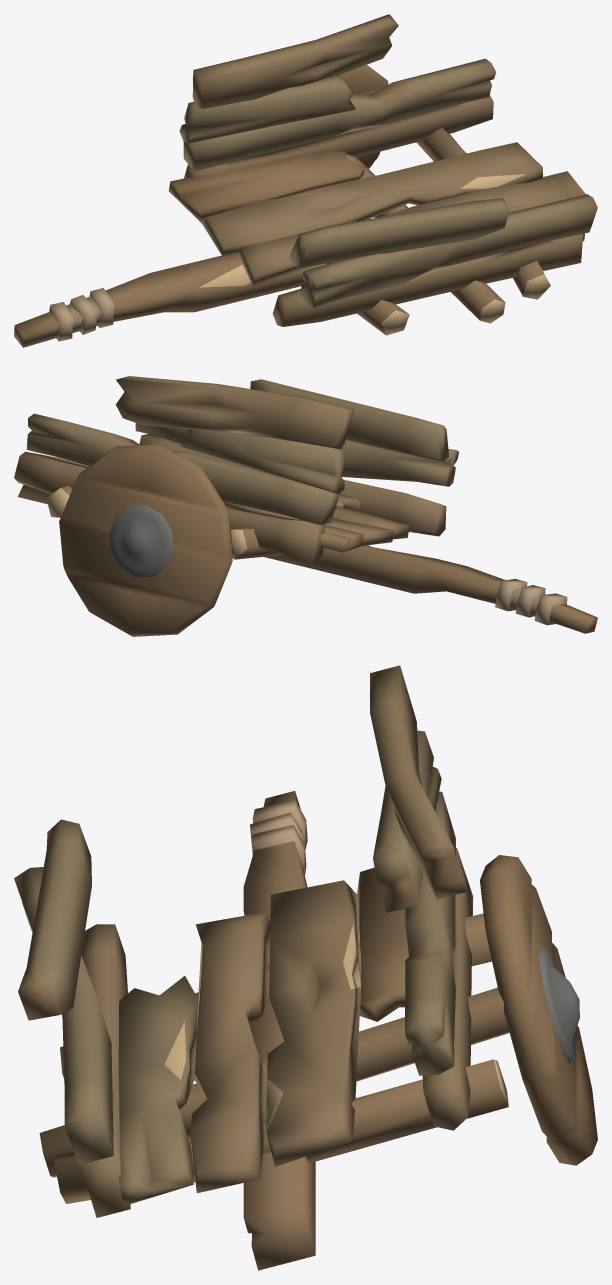
File: rpgpp_av_wagon_01a.fbx
The picture shows the model from 3 angles, top to bottom: view 1: azimuth 30°, elevation 25°; view 2: azimuth 150°, elevation 25°; view 3: azimuth 270°, elevation 25°; orthographic projection. The views are drawn at different scales.
Parts seen in each view (by area): view 1: rpgpp_av_wagon_01a; view 2: rpgpp_av_wagon_01a; view 3: rpgpp_av_wagon_01a.
Boxes of the visible parts, bbox=[...] form: rpgpp_av_wagon_01a: bbox=[14, 14, 597, 347]; rpgpp_av_wagon_01a: bbox=[14, 376, 597, 636]; rpgpp_av_wagon_01a: bbox=[14, 665, 597, 1270].
Bounding box in the file's own units: 366 × 138 × 202.
